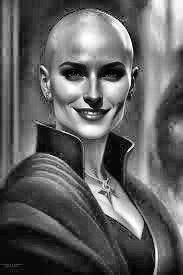happy: (46, 15, 138, 170)
